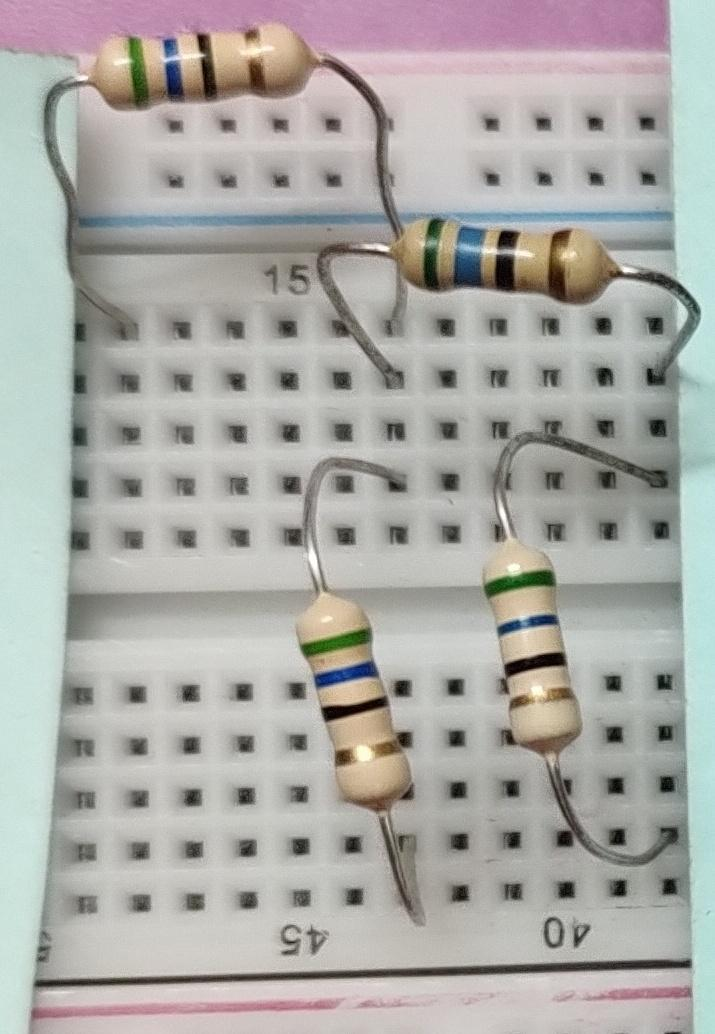resistor: (281, 577, 428, 822), (383, 199, 630, 324), (477, 533, 599, 764), (83, 13, 320, 122)
